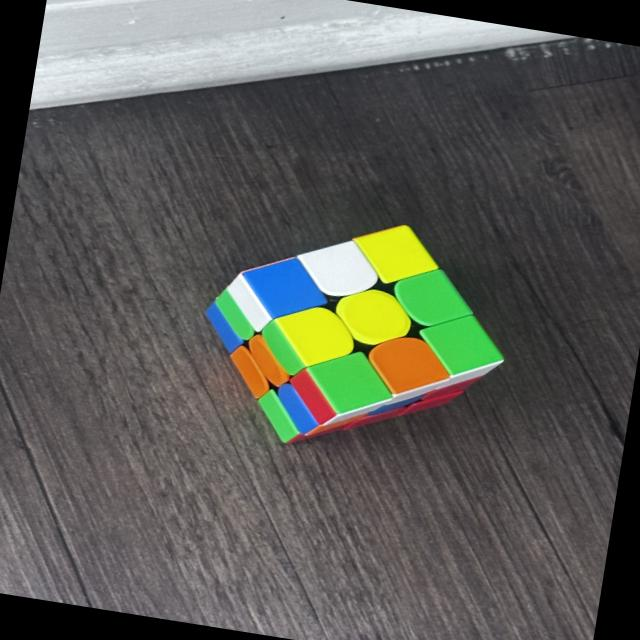sticker: (421, 318, 500, 374), (357, 227, 438, 280), (312, 355, 389, 410), (300, 242, 378, 296), (245, 260, 318, 315), (275, 312, 352, 362), (399, 274, 472, 325), (336, 293, 408, 342), (375, 341, 439, 389)
